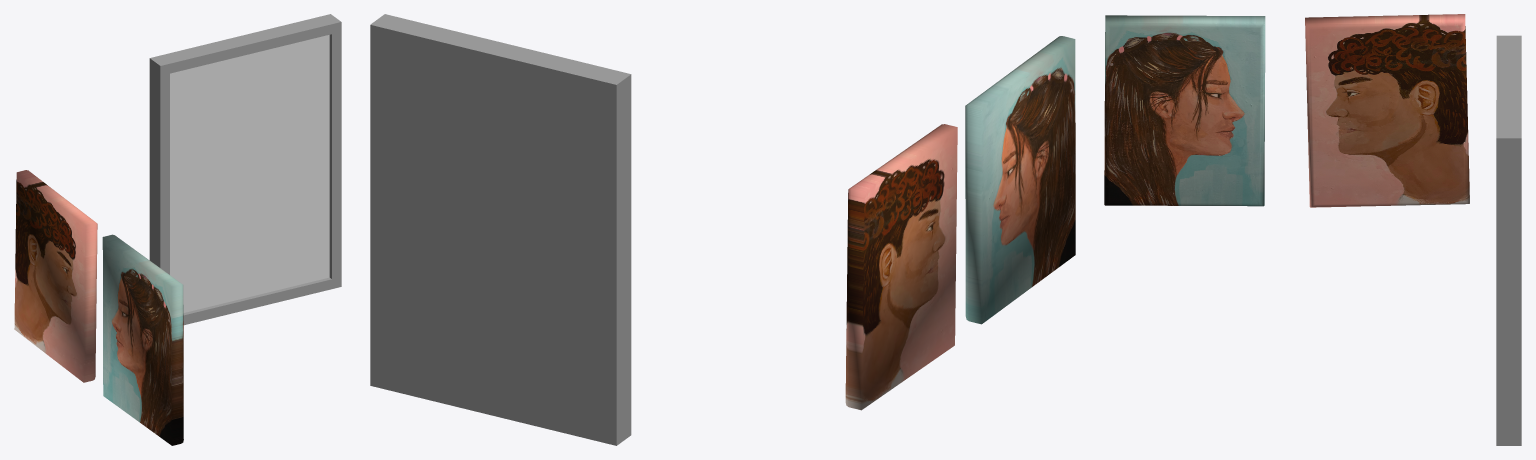
Rendered from Wall Decos.fbx.
3 views of the same model, side by side, from view 1: azimuth 30°, elevation 25°; view 2: azimuth 150°, elevation 25°; view 3: azimuth 270°, elevation 25° (orthographic). The views are drawn at different scales.
Visible parts, largest first — view 1: Twinkle, Rafa, Mor; view 2: Twinkle, Mor, Rafa; view 3: Rafa, Mor, Twinkle.
Part boxes in pixels (<box>): Twinkle: <box>149,14,341,325</box>; Rafa: <box>14,170,97,382</box>; Mor: <box>102,234,183,445</box>; Twinkle: <box>370,14,631,445</box>; Mor: <box>965,36,1075,324</box>; Rafa: <box>845,124,957,410</box>; Rafa: <box>1305,14,1469,207</box>; Mor: <box>1104,15,1265,206</box>; Twinkle: <box>1496,35,1521,445</box>.
Bounding box in the file's own units: 866 × 648 × 797.
